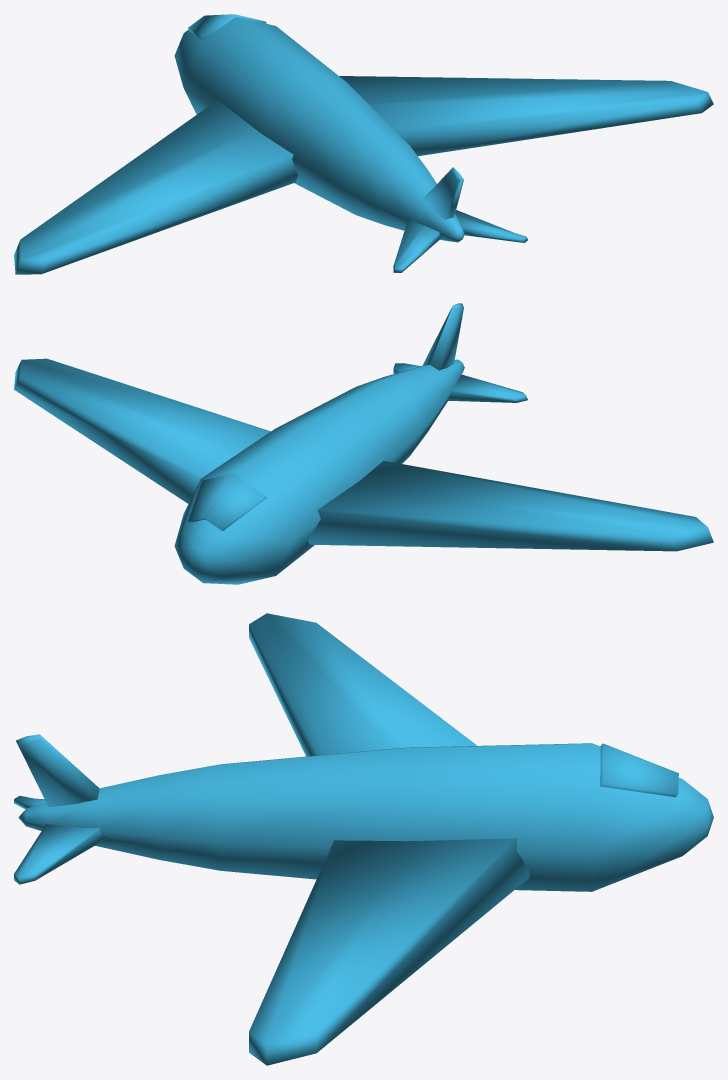
3 views of the same model, one above another, from view 1: azimuth 30°, elevation 25°; view 2: azimuth 150°, elevation 25°; view 3: azimuth 270°, elevation 25° (orthographic). The views are drawn at different scales.
Visible parts, largest first — view 1: Plane; view 2: Plane; view 3: Plane.
Part boxes in pixels (x1,y1,x2,y2): Plane: [14, 14, 713, 274]; Plane: [14, 303, 713, 584]; Plane: [14, 613, 713, 1065].
Bounding box in the file's own units: 3.48 × 0.5811 × 2.35.
